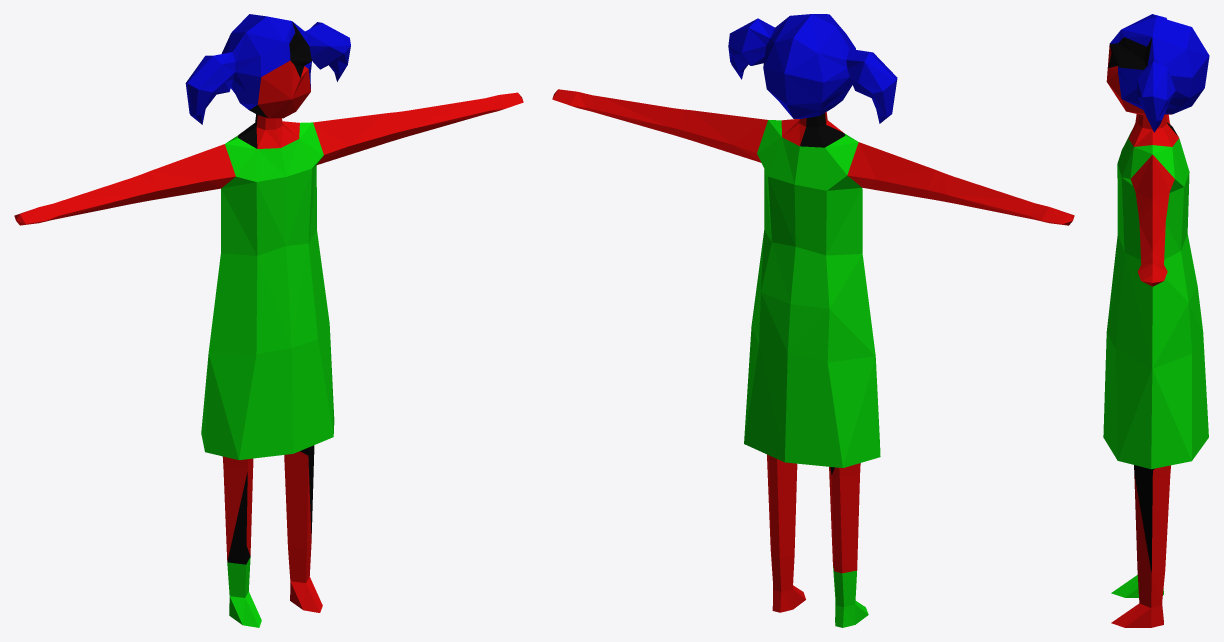
The model's file is Zombies_Female_Kid_NoArmature.fbx.
3 renders of one model, left to right at view 1: azimuth 30°, elevation 25°; view 2: azimuth 150°, elevation 25°; view 3: azimuth 270°, elevation 25°, orthographic. The views are drawn at different scales.
Visible parts, largest first — view 1: Female_Kid; view 2: Female_Kid; view 3: Female_Kid.
Boxes of the visible parts, x1,y1,x2,y2 form: Female_Kid: (14,14,523,627); Female_Kid: (552,14,1074,627); Female_Kid: (1103,14,1209,627).
Bounding box in the file's own units: 101 × 113 × 18.3.
